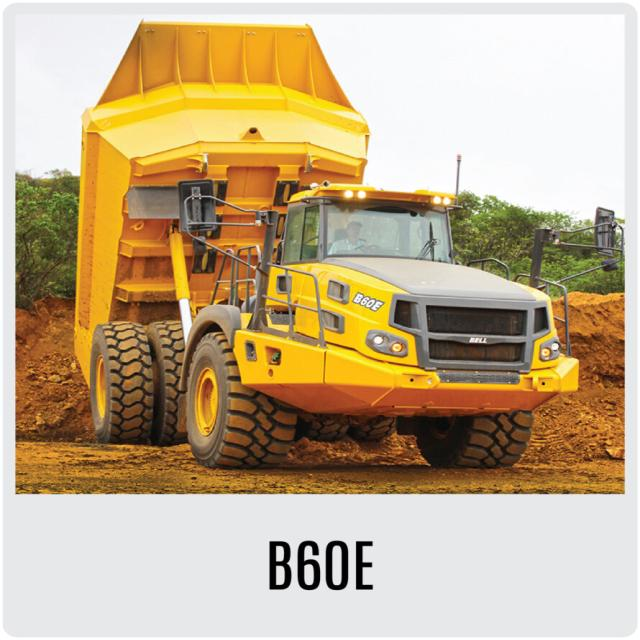dump_truck: (37, 16, 579, 471)
